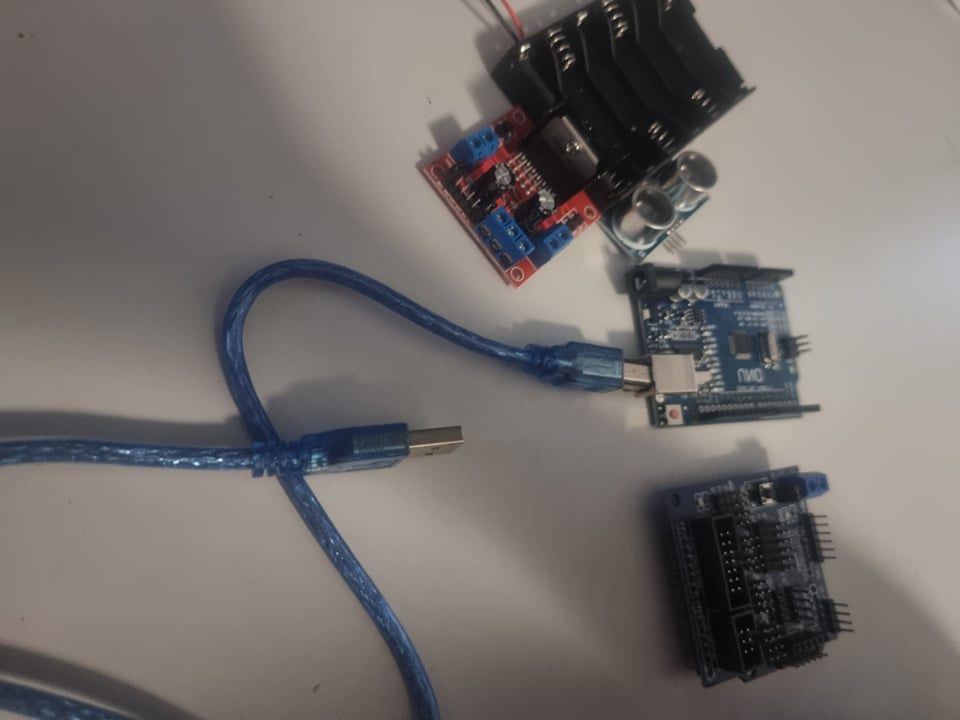5V EXPANSION: (654, 466, 861, 690)
MOTOR: (494, 3, 761, 178), (421, 106, 615, 291)
SENSOR: (618, 142, 718, 258)
UNO R3: (636, 249, 826, 431)
